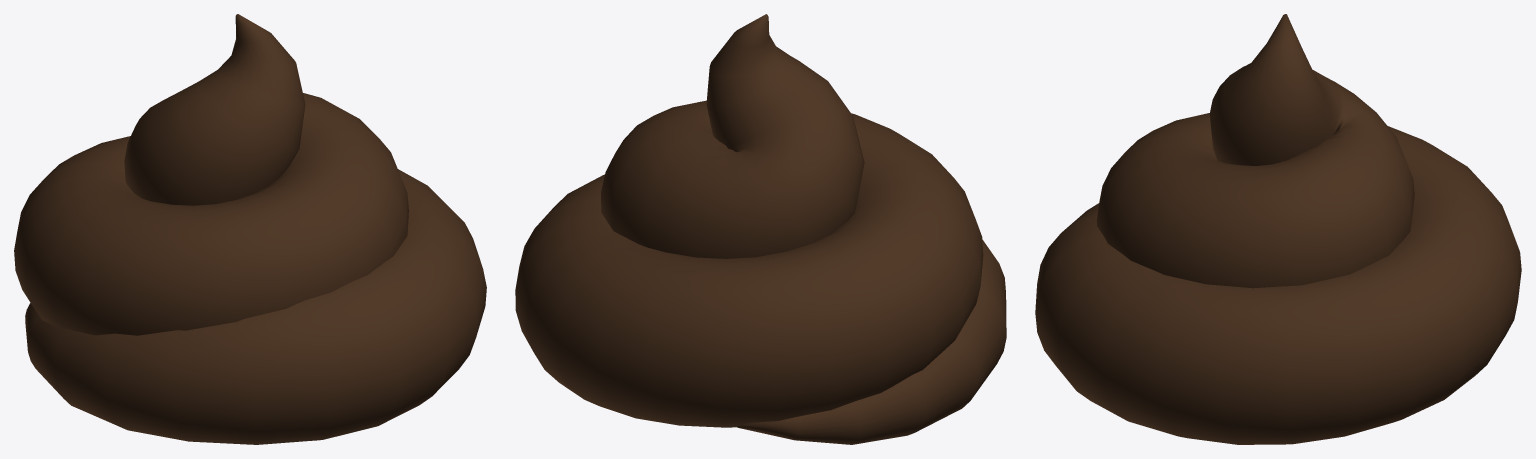
File: pashalka.fbx
3 renders of one model, left to right at view 1: azimuth 30°, elevation 25°; view 2: azimuth 150°, elevation 25°; view 3: azimuth 270°, elevation 25°, orthographic. The views are drawn at different scales.
Visible parts, largest first — view 1: Spiral.001; view 2: Spiral.001; view 3: Spiral.001.
Boxes of the visible parts, x1,y1,x2,y2 form: Spiral.001: [14, 14, 486, 444]; Spiral.001: [515, 14, 1006, 444]; Spiral.001: [1035, 14, 1521, 444].
Size of the model in its own units: 1.25 by 1.04 by 1.29.
